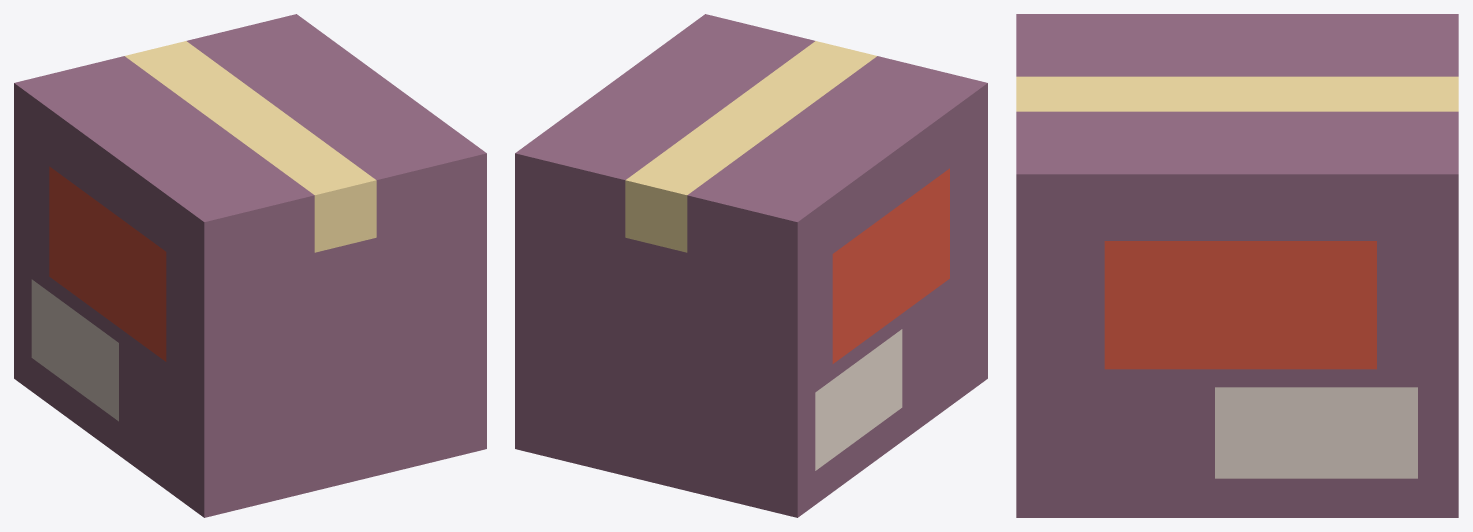
The model's file is Purple_Return_Box.fbx.
3 renders of one model, left to right at view 1: azimuth 30°, elevation 25°; view 2: azimuth 150°, elevation 25°; view 3: azimuth 270°, elevation 25°, orthographic. The views are drawn at different scales.
Visible parts, largest first — view 1: Purple_Return_Box; view 2: Purple_Return_Box; view 3: Purple_Return_Box.
Part boxes in pixels (<box>): Purple_Return_Box: <box>14,14,486,517</box>; Purple_Return_Box: <box>515,14,987,517</box>; Purple_Return_Box: <box>1016,14,1458,517</box>.
Bounding box in the file's own units: 30 × 30 × 35.
